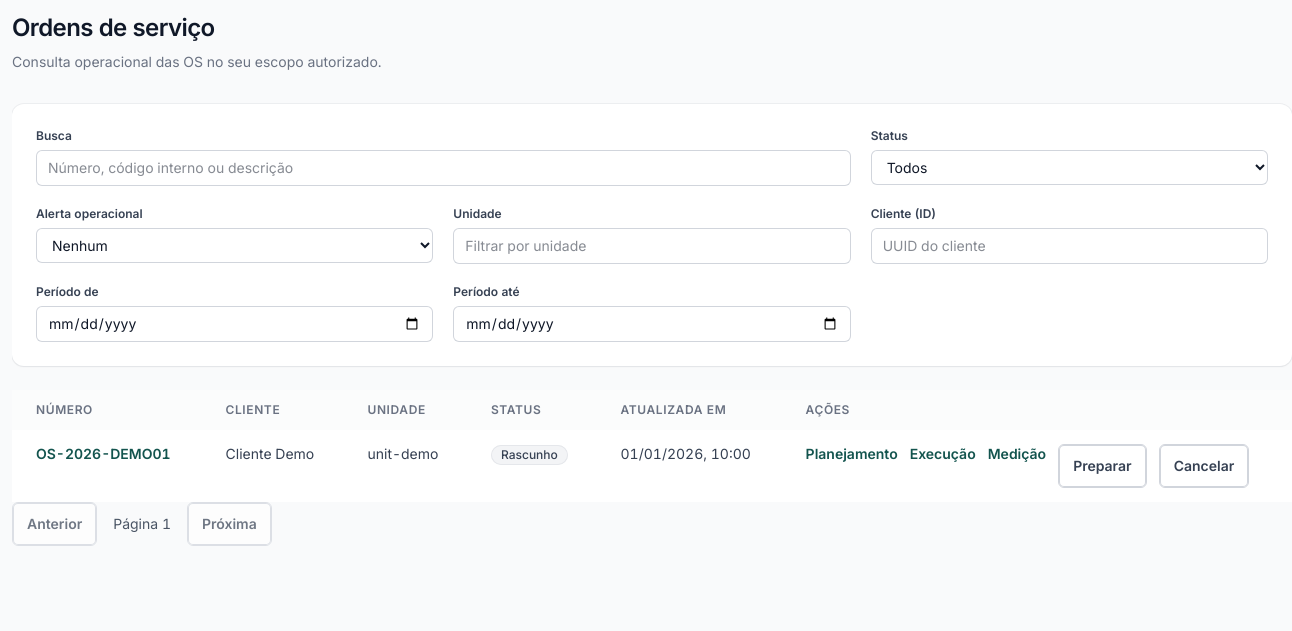
it: ServiceOrdersListPage › prepares a draft order (Preparar on DRAFT moves to PREPARED)
Click the button "Preparar" at (1102, 466), box [1058, 444, 1147, 488]
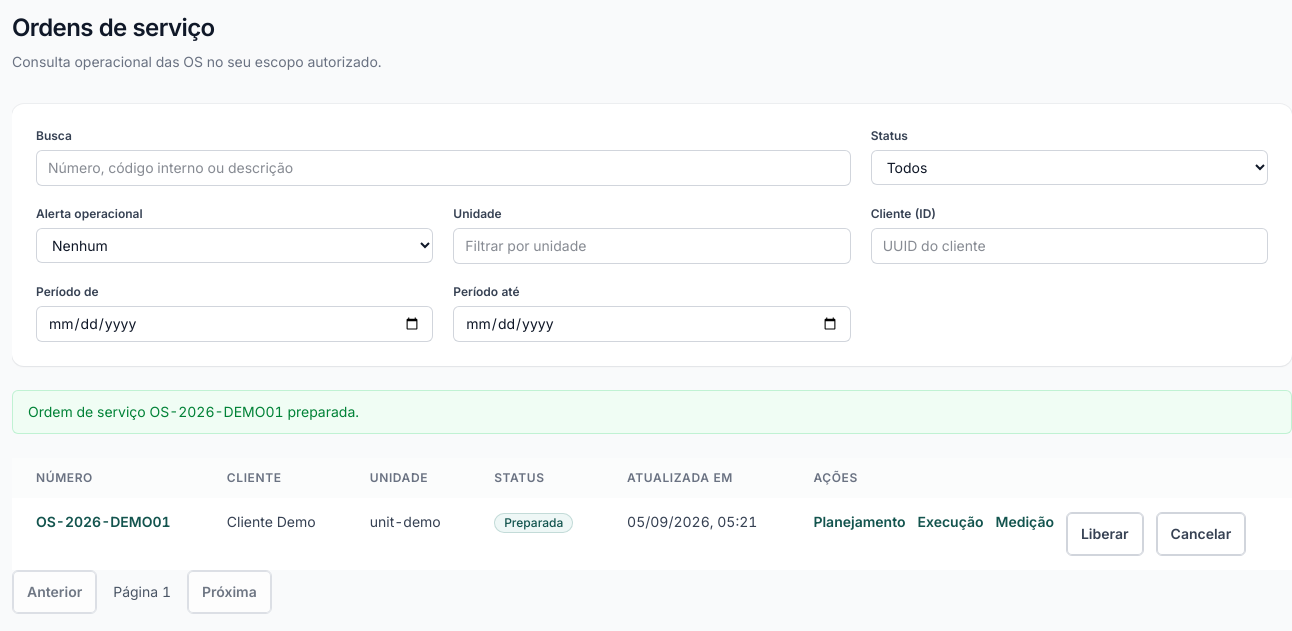
Expected: the button "Liberar" is enabled, [1066, 512, 1144, 556]
Now the text named "Status: Preparada" is shown, box [494, 513, 573, 533]
